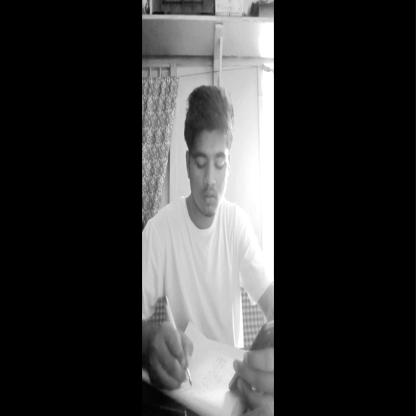Normal: (185, 84, 236, 221)
